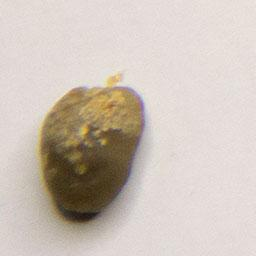peaberry: (36, 83, 149, 219)
